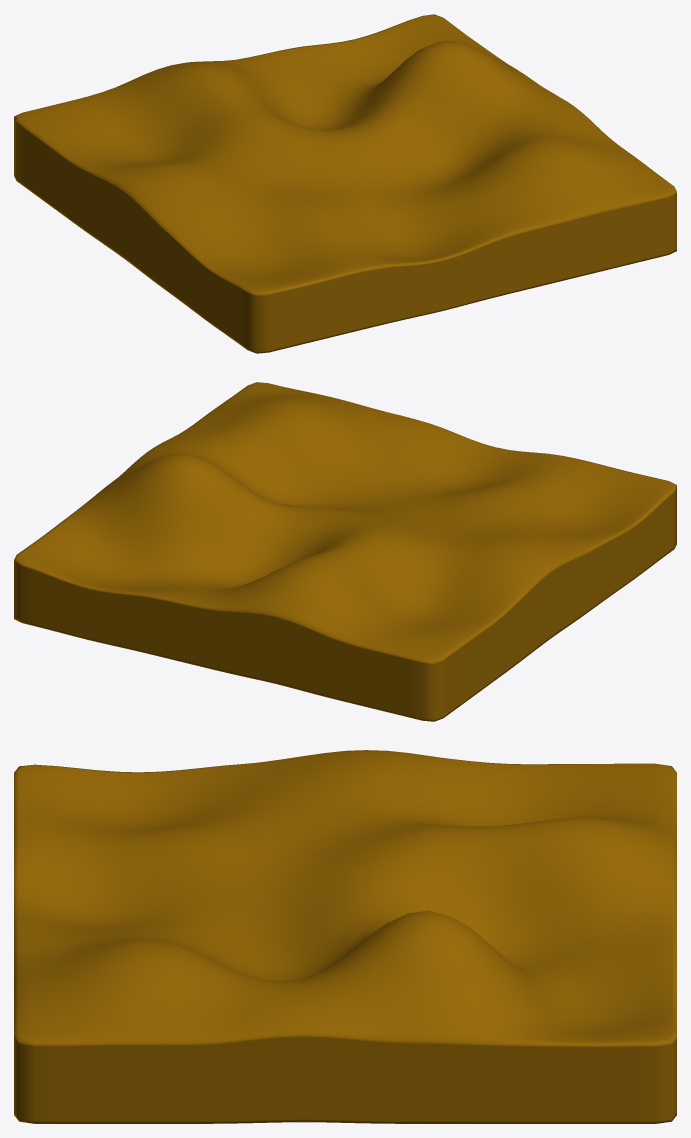
Rendered from Dirt_ground.fbx.
3 renders of one model, top to bottom at view 1: azimuth 30°, elevation 25°; view 2: azimuth 150°, elevation 25°; view 3: azimuth 270°, elevation 25°, orthographic. The views are drawn at different scales.
Parts seen in each view (by area): view 1: pasted__pasted__pasted__pCube1; view 2: pasted__pasted__pasted__pCube1; view 3: pasted__pasted__pasted__pCube1.
Part boxes in pixels (<box>): pasted__pasted__pasted__pCube1: <box>14,14,676,353</box>; pasted__pasted__pasted__pCube1: <box>14,382,676,721</box>; pasted__pasted__pasted__pCube1: <box>14,750,676,1123</box>.
Size of the model in its own units: 2.31 by 0.6293 by 2.31.
